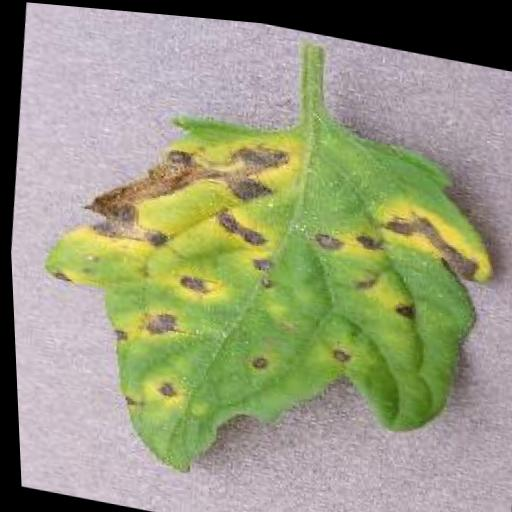Septoria: (15, 69, 510, 512)
